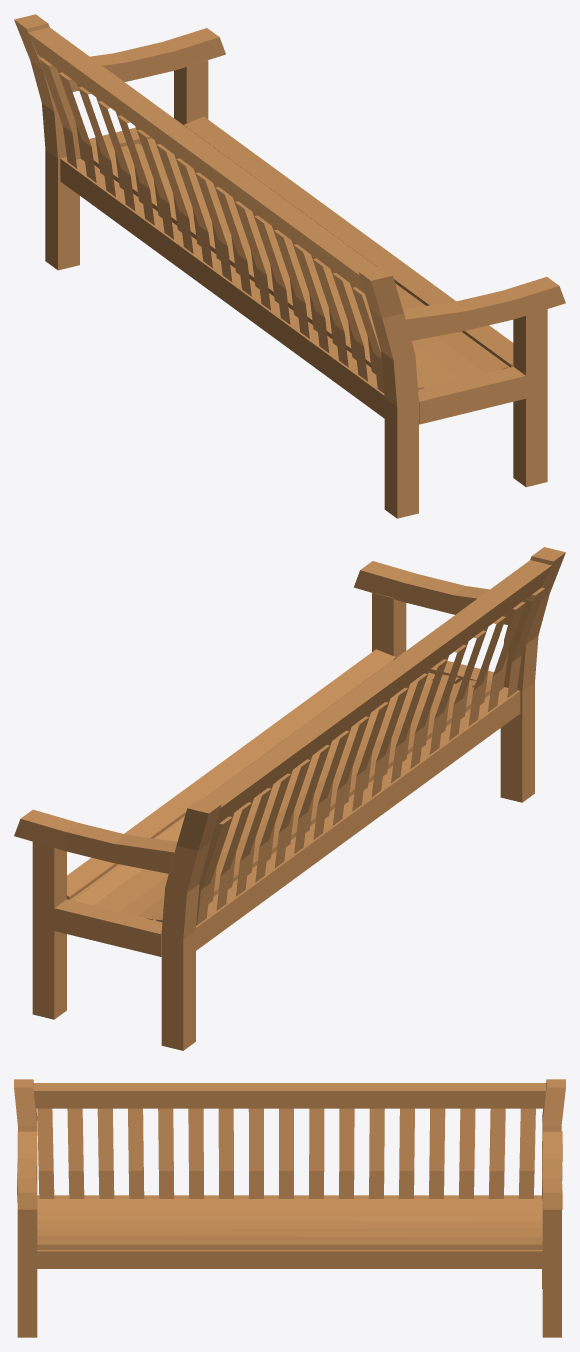
The model's file is bench.gltf.
3 renders of one model, top to bottom at view 1: azimuth 30°, elevation 25°; view 2: azimuth 150°, elevation 25°; view 3: azimuth 270°, elevation 25°, orthographic. The views are drawn at different scales.
Parts seen in each view (by area): view 1: Cube.012, Cube.011, Cube.010, Cube.001, Cube.007, Cube.004, Cube.009, Cube.008, Cube.002, Cube.006, Cube.005, Cube; view 2: Cube.012, Cube.011, Cube.010, Cube.001, Cube.009, Cube.007, Cube.005, Cube.006, Cube.003, Cube.008, Cube.004, Cube; view 3: Cube.012, Cube.011, Cube.010, Cube, Cube.004, Cube.005, Cube.008, Cube.006, Cube.009, Cube.007, Cube.001.
Part boxes in pixels (<box>): Cube.012: <box>92,116,513,389</box>; Cube.011: <box>39,58,384,393</box>; Cube.010: <box>27,27,376,293</box>; Cube.001: <box>60,157,384,418</box>; Cube.007: <box>358,266,418,518</box>; Cube.004: <box>513,309,547,487</box>; Cube.009: <box>14,14,79,270</box>; Cube.008: <box>403,277,565,340</box>; Cube.002: <box>418,367,526,424</box>; Cube.006: <box>69,28,225,91</box>; Cube.005: <box>174,60,208,127</box>; Cube: <box>187,127,511,367</box>; Cube.012: <box>66,649,491,922</box>; Cube.011: <box>196,587,544,925</box>; Cube.010: <box>203,560,552,826</box>; Cube.001: <box>196,687,520,950</box>; Cube.009: <box>161,799,221,1050</box>; Cube.007: <box>500,547,565,802</box>; Cube.005: <box>32,842,66,1019</box>; Cube.006: <box>14,809,177,873</box>; Cube.003: <box>54,899,162,956</box>; Cube.008: <box>353,561,511,624</box>; Cube.004: <box>372,592,406,659</box>; Cube: <box>69,660,393,899</box>; Cube.012: <box>37,1199,542,1249</box>; Cube.011: <box>37,1108,535,1198</box>; Cube.010: <box>33,1083,545,1108</box>; Cube: <box>36,1250,542,1268</box>; Cube.004: <box>17,1209,37,1337</box>; Cube.005: <box>542,1202,561,1337</box>; Cube.008: <box>17,1131,37,1209</box>; Cube.006: <box>542,1131,562,1209</box>; Cube.009: <box>542,1079,565,1288</box>; Cube.007: <box>14,1079,37,1190</box>; Cube.001: <box>37,1195,541,1198</box>.
Bounding box in the file's own units: 0.9053 × 1.08 × 2.84.
